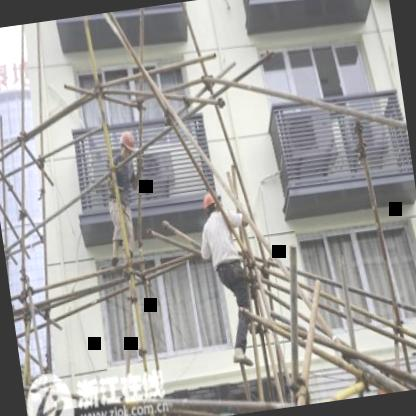helmet: (199, 184, 226, 221), (116, 126, 139, 162)
